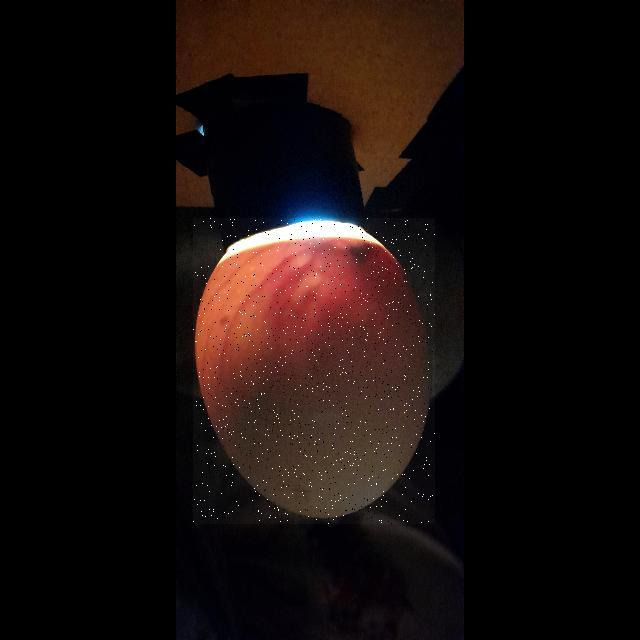Fertile: (193, 218, 435, 524)
